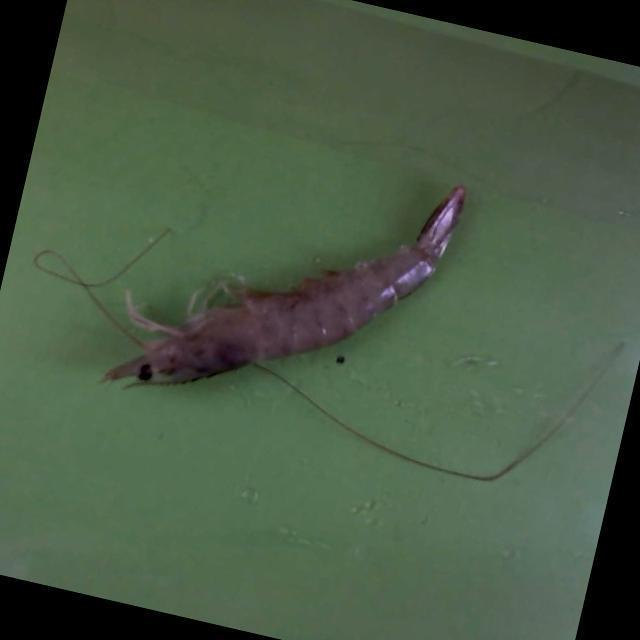shrimp: (101, 184, 464, 383)
